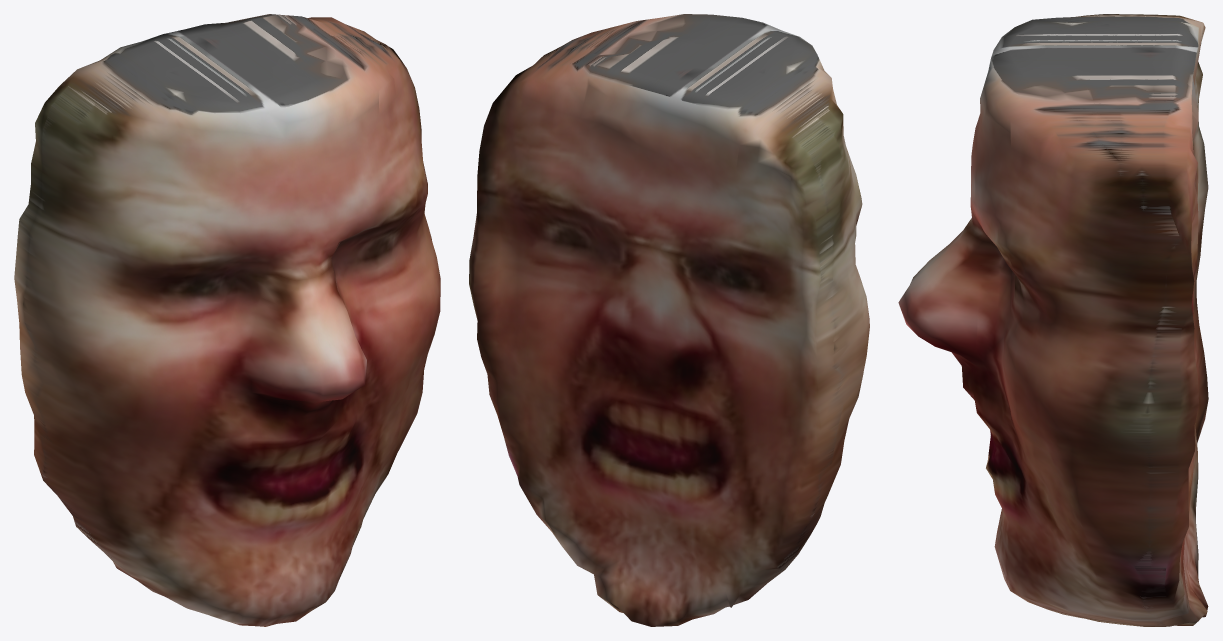
Rendered from ScottHead.fbx.
3 views of the same model, side by side, from view 1: azimuth 30°, elevation 25°; view 2: azimuth 150°, elevation 25°; view 3: azimuth 270°, elevation 25° (orthographic). The views are drawn at different scales.
Visible parts, largest first — view 1: pCube2; view 2: pCube2; view 3: pCube2.
Boxes of the visible parts, box(x1,y1,x2,y2) form: pCube2: box(14, 14, 440, 626); pCube2: box(469, 14, 869, 626); pCube2: box(898, 14, 1208, 626).
Size of the model in its own units: 5.94 by 8.28 by 4.19.
1 material, 1 textured.
